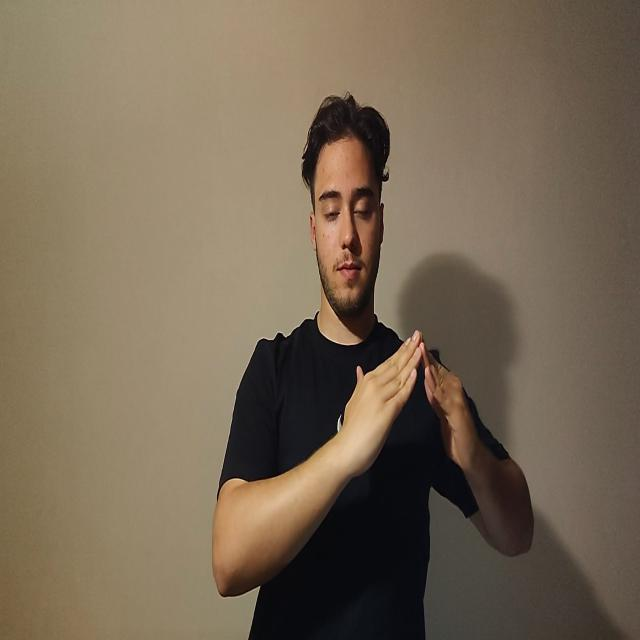house: (346, 332, 475, 479)
